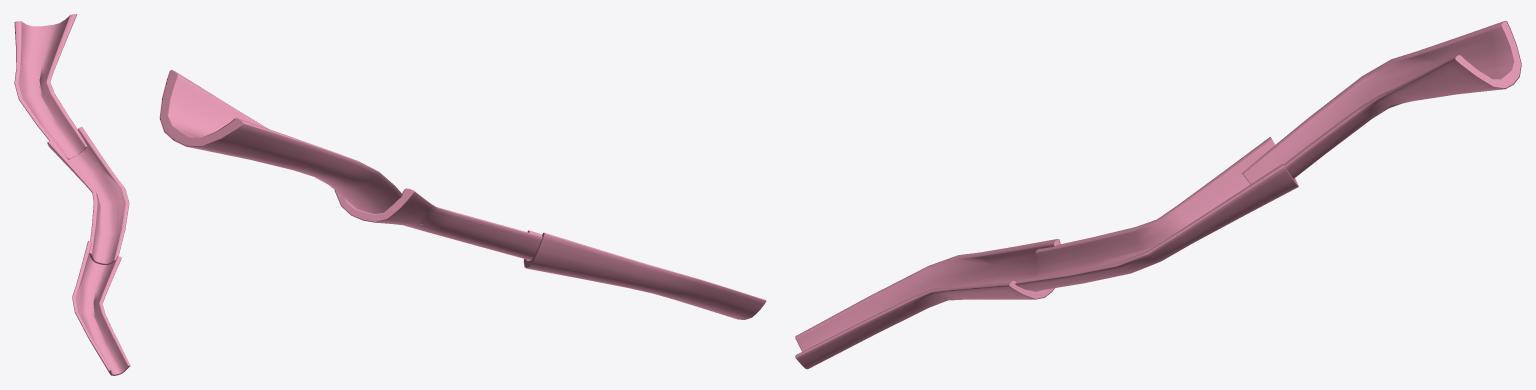
File: Slidertest.fbx
The picture shows the model from 3 angles, left to right: view 1: azimuth 30°, elevation 25°; view 2: azimuth 150°, elevation 25°; view 3: azimuth 270°, elevation 25°; orthographic projection. The views are drawn at different scales.
Parts seen in each view (by area): view 1: pCube6; view 2: pCube6; view 3: pCube6.
Boxes of the visible parts, x1,y1,x2,y2 form: pCube6: (14, 14, 130, 375); pCube6: (159, 70, 766, 319); pCube6: (795, 20, 1521, 369).
Bounding box in the file's own units: 105 × 158 × 244.
